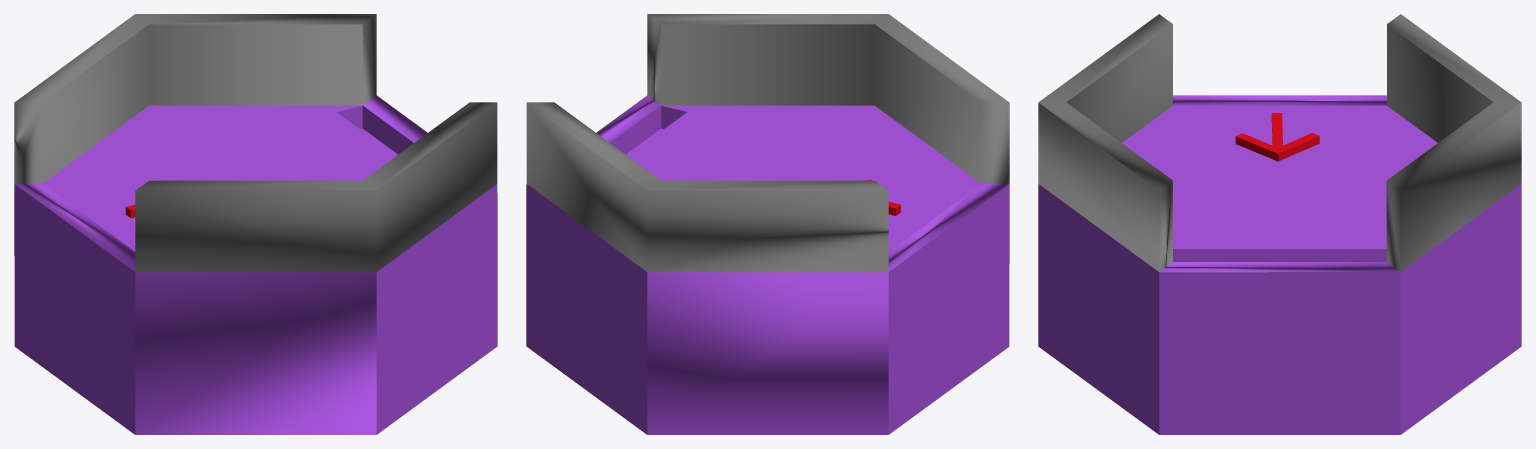
The model's file is Pathway2-3.fbx.
3 views of the same model, side by side, from view 1: azimuth 30°, elevation 25°; view 2: azimuth 150°, elevation 25°; view 3: azimuth 270°, elevation 25° (orthographic).
Visible parts, largest first — view 1: Pathway2-3; view 2: Pathway2-3; view 3: Pathway2-3.
Part boxes in pixels (left/top/right/bottom): Pathway2-3: left=14, top=14, right=497, bottom=434; Pathway2-3: left=526, top=14, right=1009, bottom=434; Pathway2-3: left=1038, top=14, right=1521, bottom=434.
Size of the model in its own units: 173 by 112 by 200.
